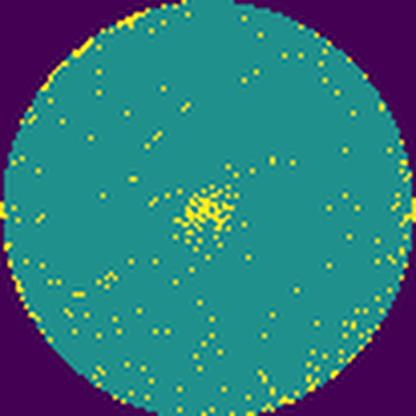Center: (177, 186, 240, 240)
